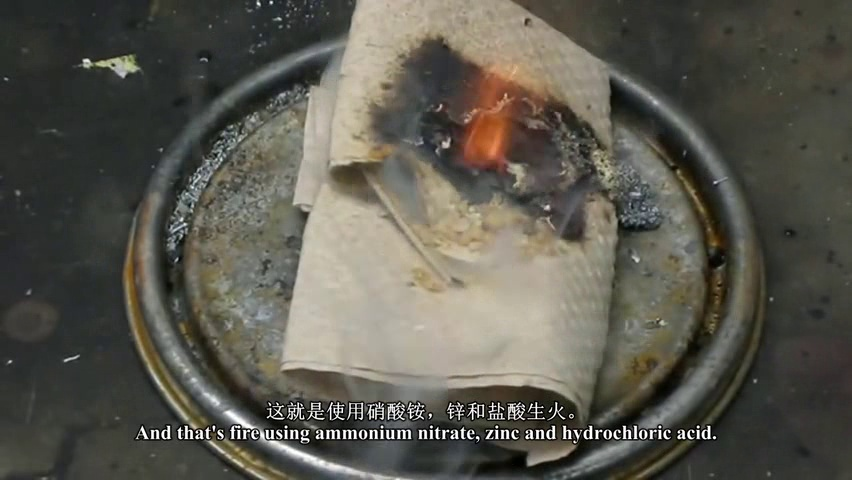fire: (458, 49, 547, 180)
